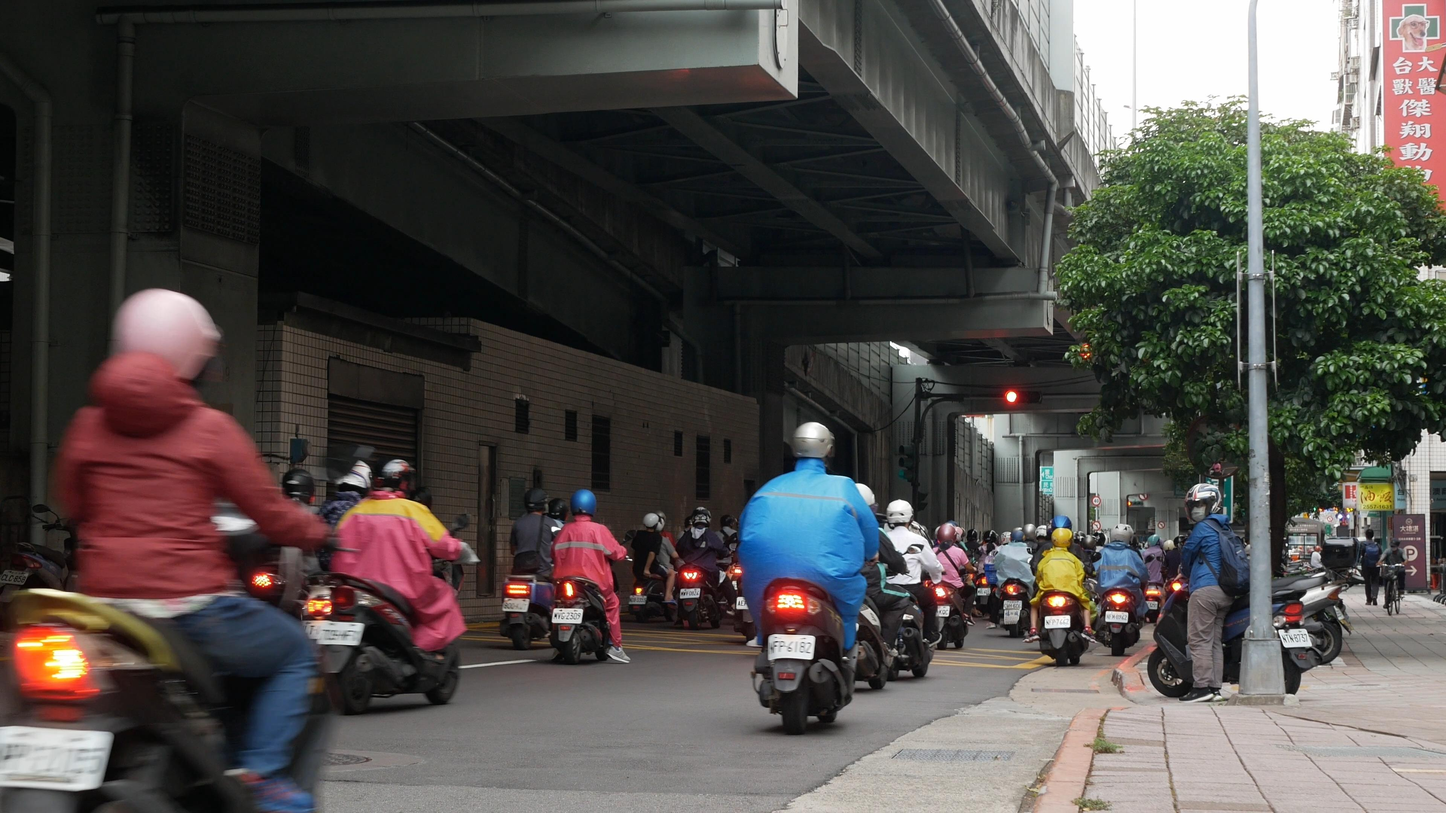bicyclist: (1376, 538, 1408, 615)
driver: (0, 287, 340, 813), (736, 421, 880, 736), (316, 458, 480, 716), (549, 488, 631, 666), (881, 499, 947, 682), (1022, 516, 1098, 666), (499, 488, 568, 650), (1099, 523, 1150, 656), (675, 507, 729, 630), (932, 522, 978, 651), (628, 510, 679, 624), (985, 526, 1036, 637), (1141, 535, 1166, 623)
helmet: (110, 287, 221, 382), (792, 421, 835, 463), (374, 458, 417, 499), (1184, 482, 1224, 524), (334, 459, 373, 498), (282, 468, 315, 505), (887, 499, 914, 530), (570, 489, 597, 518), (525, 488, 549, 515), (1110, 523, 1134, 545), (549, 498, 569, 522), (1051, 528, 1073, 549), (692, 506, 712, 528), (937, 524, 957, 545), (643, 512, 661, 530), (1051, 516, 1072, 531), (721, 514, 737, 529), (1148, 534, 1164, 549), (1082, 535, 1097, 551), (1022, 524, 1036, 541), (1010, 530, 1026, 543), (1173, 535, 1188, 548), (1035, 525, 1047, 541), (984, 530, 997, 544)
